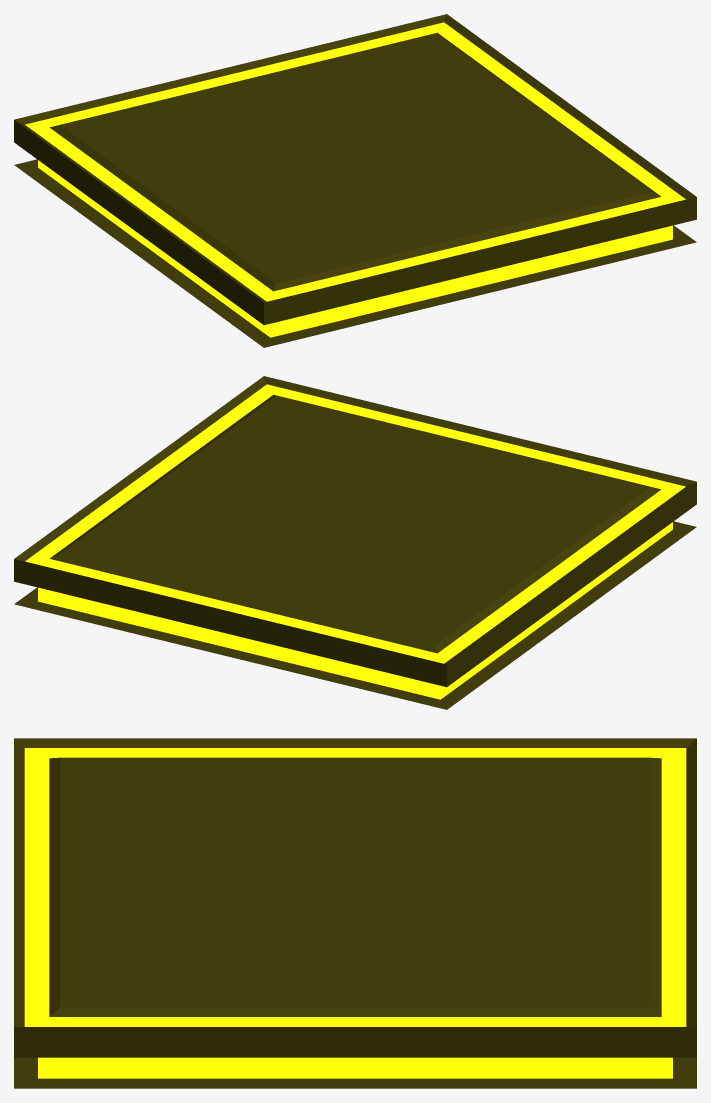
The model's file is Tile_Yellow.FBX.
The picture shows the model from 3 angles, top to bottom: view 1: azimuth 30°, elevation 25°; view 2: azimuth 150°, elevation 25°; view 3: azimuth 270°, elevation 25°; orthographic projection. The views are drawn at different scales.
Visible parts, largest first — view 1: Yellow_Tile; view 2: Yellow_Tile; view 3: Yellow_Tile.
Part boxes in pixels (box(x1,y1,x2,y2)): Yellow_Tile: box(14, 14, 696, 347); Yellow_Tile: box(14, 376, 696, 709); Yellow_Tile: box(14, 738, 696, 1088).
Size of the model in its own units: 39.37 by 3.94 by 39.37.
